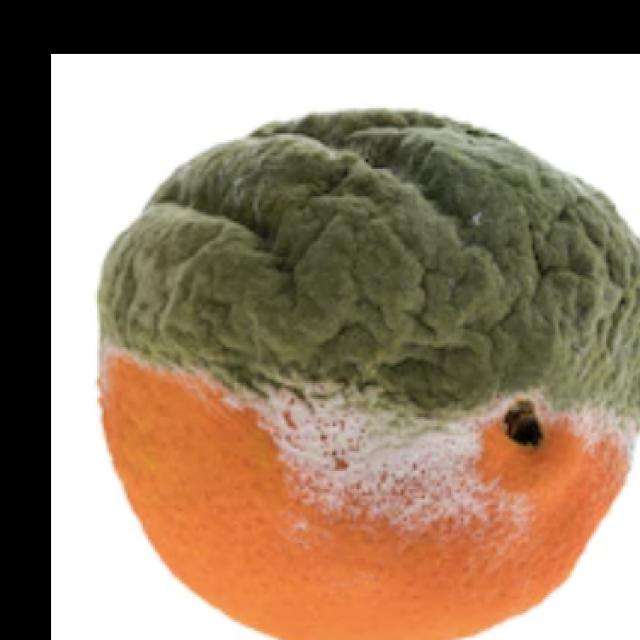sangat_busuk: (99, 108, 638, 638)
